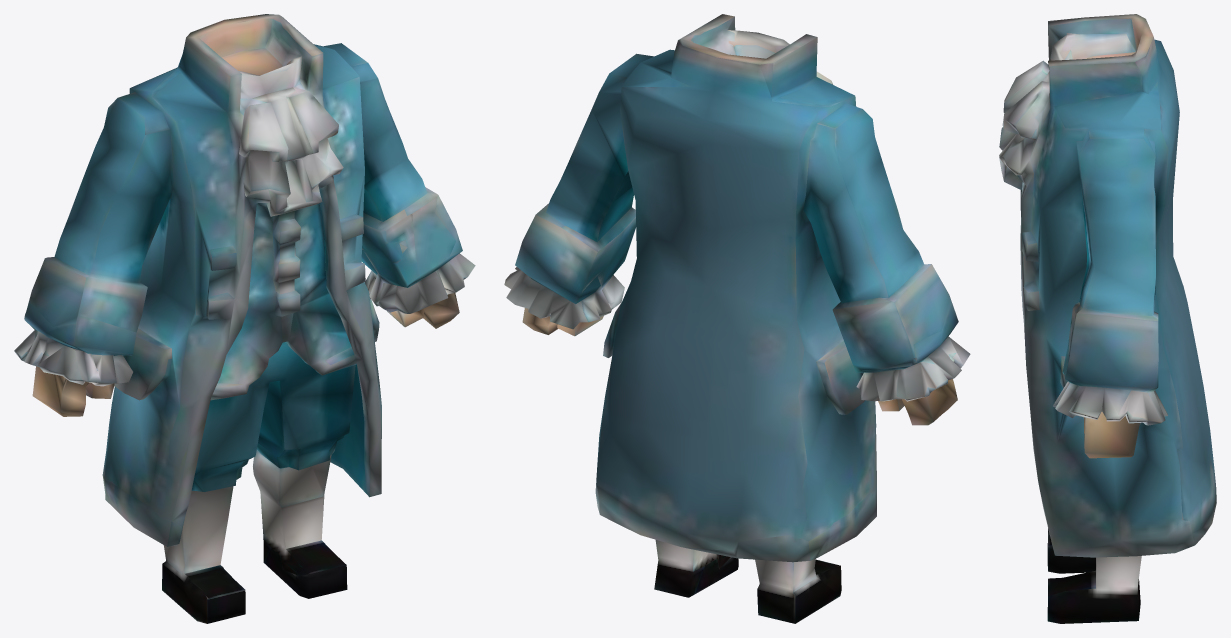
File: costume-louis15-v2.glb
3 views of the same model, side by side, from view 1: azimuth 30°, elevation 25°; view 2: azimuth 150°, elevation 25°; view 3: azimuth 270°, elevation 25° (orthographic).
Visible parts, largest first — view 1: material.001; view 2: material.001; view 3: material.001.
Part boxes in pixels (x1,y1,x2,y2): material.001: (14,14,475,623); material.001: (504,14,970,623); material.001: (999,14,1216,623).
Size of the model in its own units: 0.9418 by 1.14 by 0.407.
1 material, 1 textured.
